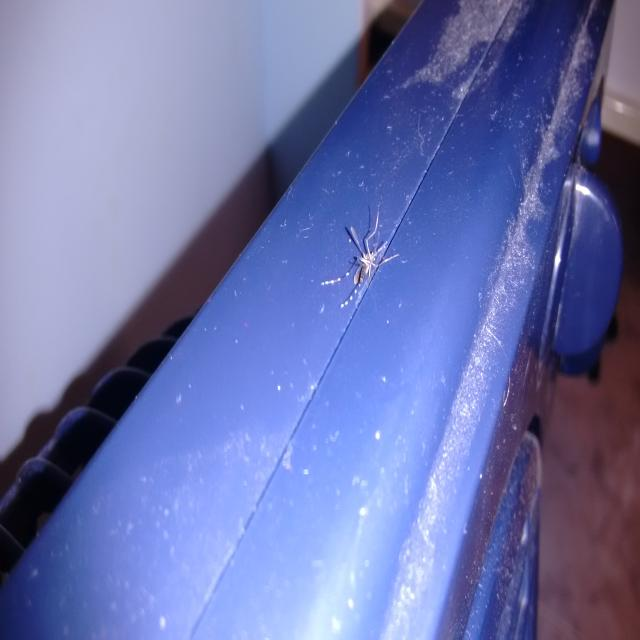albopictus: (296, 185, 424, 408)
